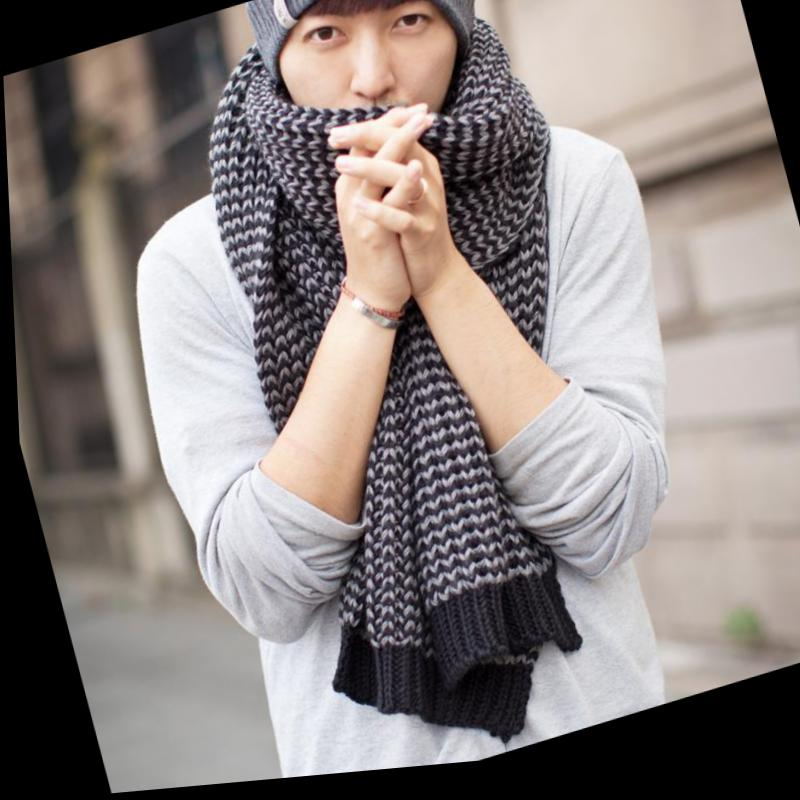WRONG: (281, 1, 475, 186)
